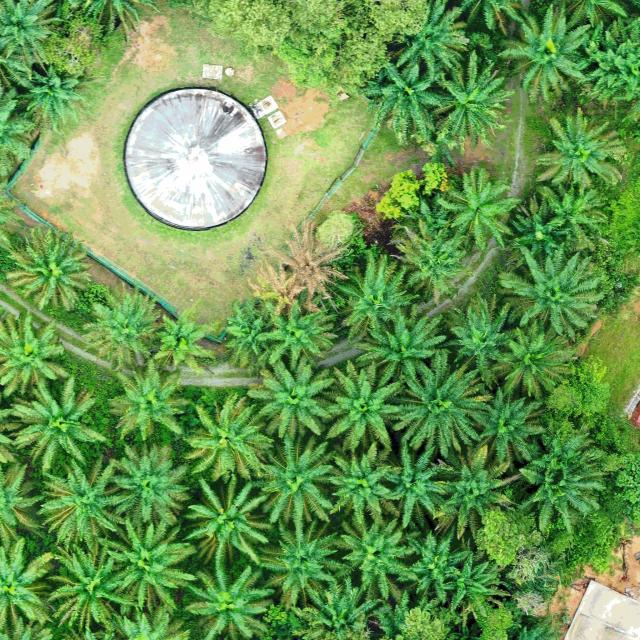Tree: (388, 354, 492, 464), (516, 422, 614, 537), (493, 1, 595, 111), (494, 246, 608, 342), (97, 511, 197, 615), (1, 378, 103, 476), (239, 433, 339, 531), (430, 441, 521, 548), (334, 504, 420, 606), (430, 50, 514, 152), (371, 431, 459, 528), (182, 393, 275, 482), (80, 277, 168, 371), (328, 246, 415, 341), (322, 359, 402, 461), (40, 452, 127, 544), (185, 475, 271, 568), (358, 56, 444, 149), (2, 224, 92, 312), (390, 210, 476, 302), (247, 354, 335, 442), (47, 541, 128, 635), (434, 166, 522, 252), (182, 560, 276, 640), (254, 522, 342, 606), (444, 288, 512, 393), (535, 110, 622, 190), (354, 308, 448, 382), (109, 444, 191, 524), (433, 546, 513, 628), (108, 364, 188, 444), (146, 294, 220, 380), (324, 440, 402, 520), (470, 384, 548, 464), (392, 1, 468, 82), (396, 526, 472, 607), (287, 578, 386, 640), (0, 312, 68, 402), (494, 328, 574, 398), (0, 535, 53, 639), (577, 17, 640, 104), (534, 178, 610, 245), (13, 59, 87, 125), (262, 303, 334, 366), (221, 294, 278, 373), (544, 356, 613, 421), (505, 190, 568, 259), (0, 459, 41, 552)
